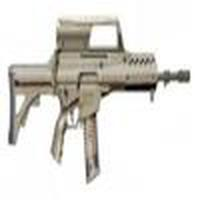gun: (3, 15, 190, 182)
